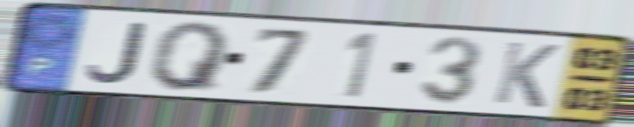1: (343, 31, 380, 102)
3: (419, 34, 486, 107)
7: (251, 26, 315, 96)
J: (84, 21, 148, 86)
K: (489, 38, 563, 111)
Q: (148, 20, 235, 93)
